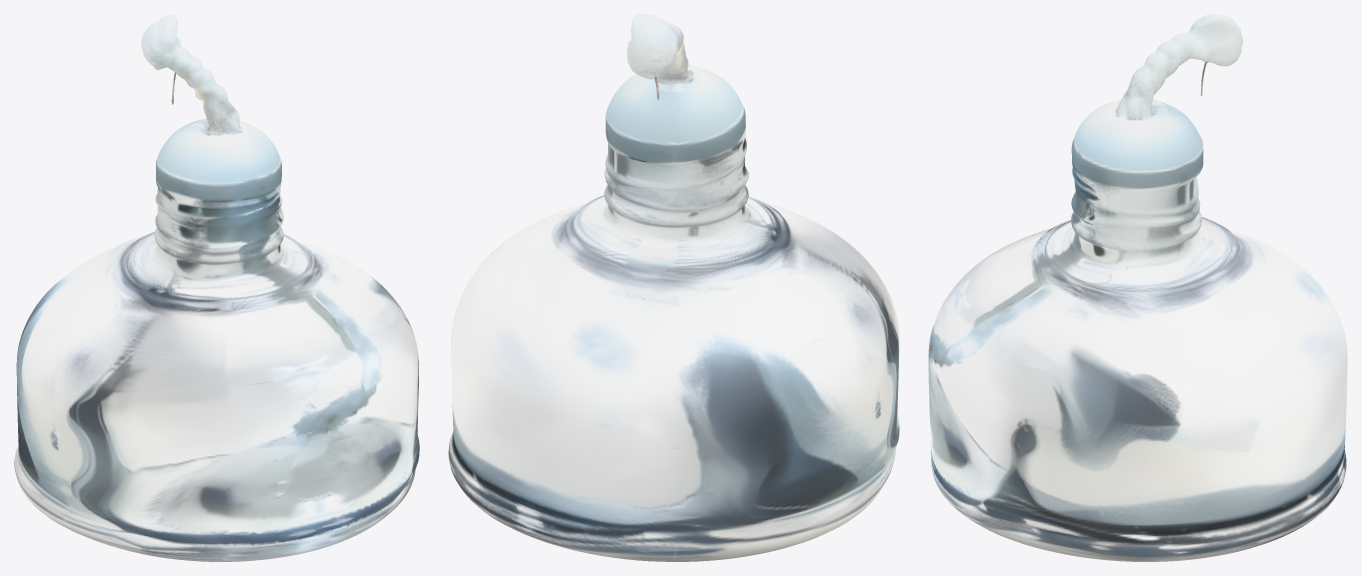
File: base_basic_shaded.fbx
3 views of the same model, side by side, from view 1: azimuth 30°, elevation 25°; view 2: azimuth 150°, elevation 25°; view 3: azimuth 270°, elevation 25° (orthographic). The views are drawn at different scales.
Parts seen in each view (by area): view 1: model; view 2: model; view 3: model.
Boxes of the visible parts, x1,y1,x2,y2 form: model: (14, 14, 419, 561); model: (448, 14, 899, 561); model: (928, 14, 1347, 561).
Size of the model in its own units: 148 by 190 by 148.
